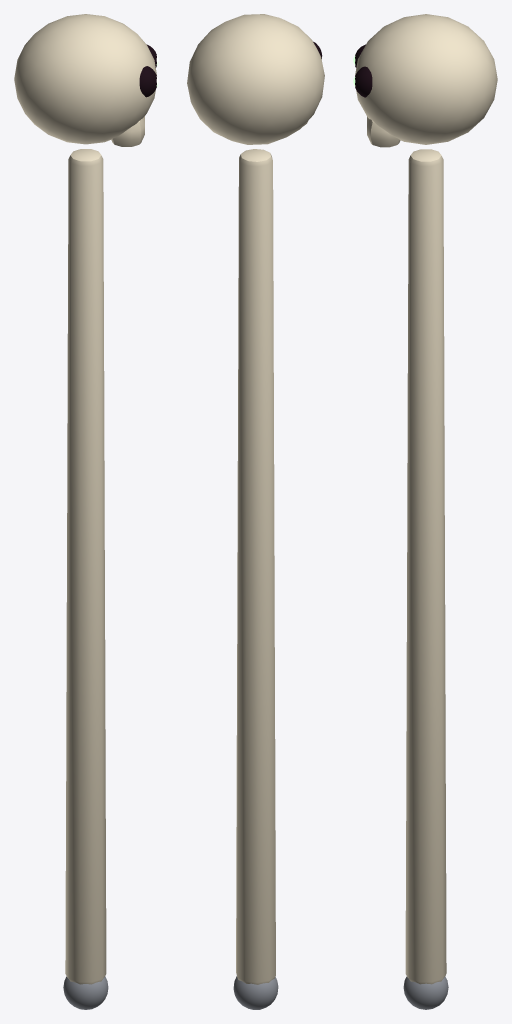
File: skullstaff.glb
3 views of the same model, side by side, from view 1: azimuth 90°, elevation 25°; view 2: azimuth 150°, elevation 25°; view 3: azimuth 270°, elevation 25° (orthographic).
Parts seen in each view (by area): view 1: wpn_skullstaff; view 2: wpn_skullstaff; view 3: wpn_skullstaff.
Part boxes in pixels (x1,y1,x2,y2): wpn_skullstaff: (14, 14, 158, 1009); wpn_skullstaff: (187, 14, 324, 1009); wpn_skullstaff: (353, 14, 497, 1009).
Size of the model in its own units: 0.3 by 2.39 by 0.3175.
